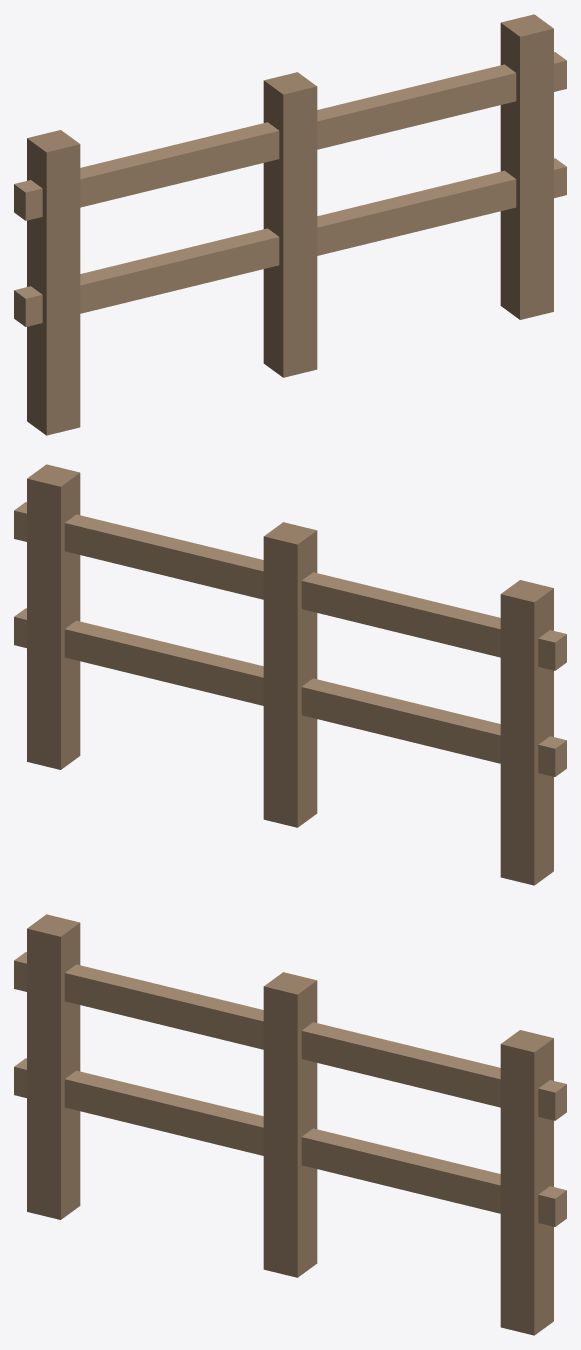
The model's file is fence.glb.
The picture shows the model from 3 angles, top to bottom: view 1: azimuth 30°, elevation 25°; view 2: azimuth 150°, elevation 25°; view 3: azimuth 330°, elevation 25°; orthographic projection.
Visible parts, largest first — view 1: fence; view 2: fence; view 3: fence.
Boxes of the visible parts, x1=… form: fence: x1=14, y1=14, x2=566, y2=435; fence: x1=14, y1=464, x2=566, y2=885; fence: x1=14, y1=914, x2=566, y2=1335.
Size of the model in its own units: 1.6 by 0.8 by 0.1.
